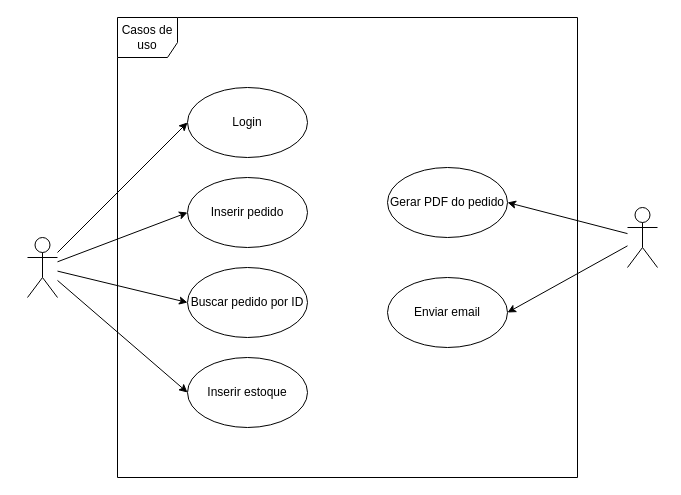
Image size: 681x495. Some labels were removed from this diagram. The box of each missing label's shape, as (x1, y1, x2, y2) in pixels:
Sistema: (626, 206, 658, 268)
Vendedor: (26, 236, 58, 298)
